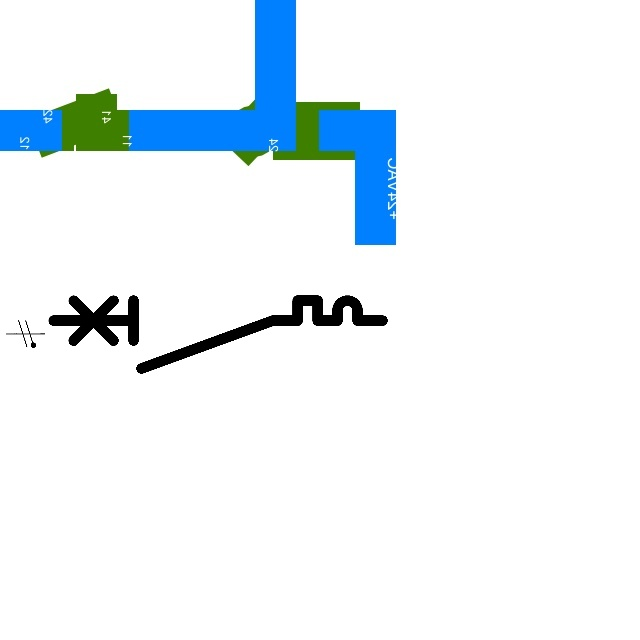interruptor_termomagnetico: (45, 292, 391, 376)
